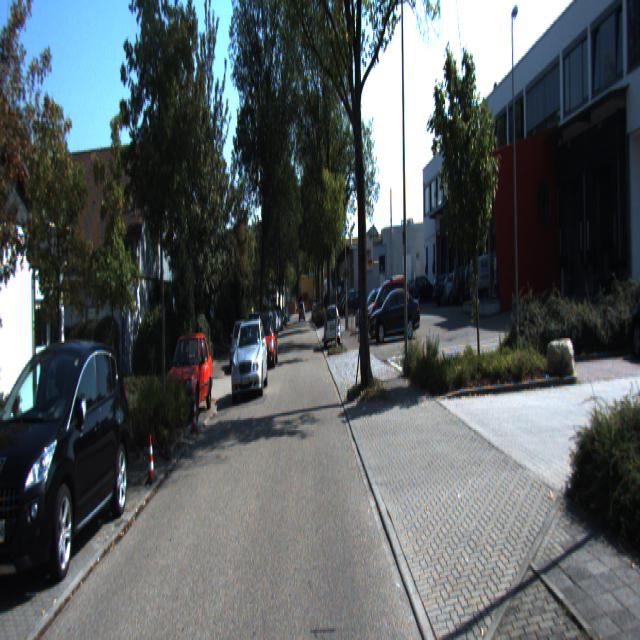Car: (0, 328, 136, 594), (161, 329, 214, 428), (229, 314, 270, 398), (366, 272, 412, 337), (368, 285, 422, 340), (469, 252, 519, 311), (324, 304, 341, 352)
